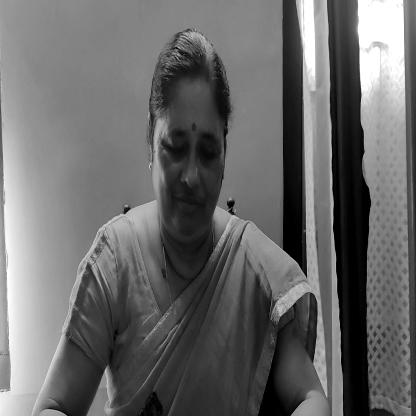Normal: (146, 26, 230, 251)
